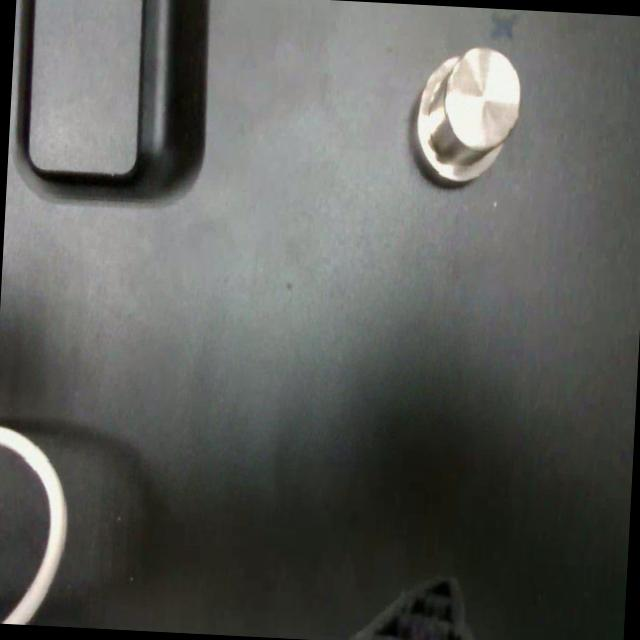sensor: (411, 42, 523, 186)
